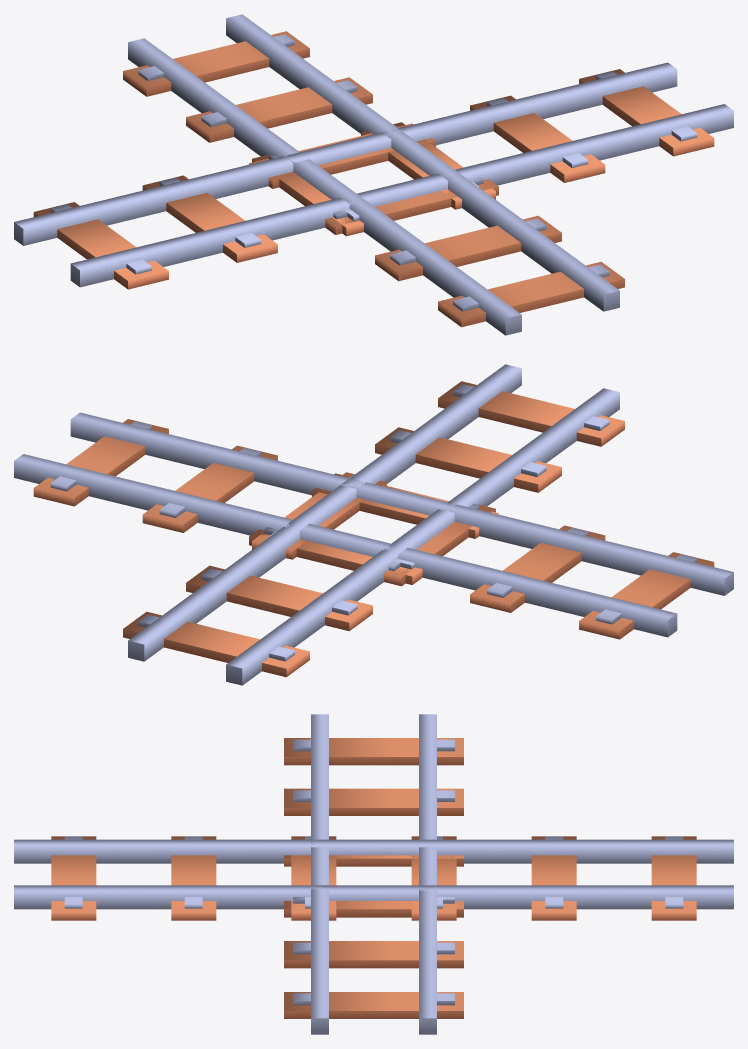
File: railroad-crossing.glb
The picture shows the model from 3 angles, top to bottom: view 1: azimuth 30°, elevation 25°; view 2: azimuth 150°, elevation 25°; view 3: azimuth 270°, elevation 25°; orthographic projection. The views are drawn at different scales.
Parts seen in each view (by area): view 1: railroad-crossing; view 2: railroad-crossing; view 3: railroad-crossing.
Part boxes in pixels (<box>): railroad-crossing: <box>14,14,733,335</box>; railroad-crossing: <box>14,364,733,685</box>; railroad-crossing: <box>14,714,733,1034</box>.
Size of the model in its own units: 4 by 0.1 by 4.
Materials: 1 (1 with a texture image).
